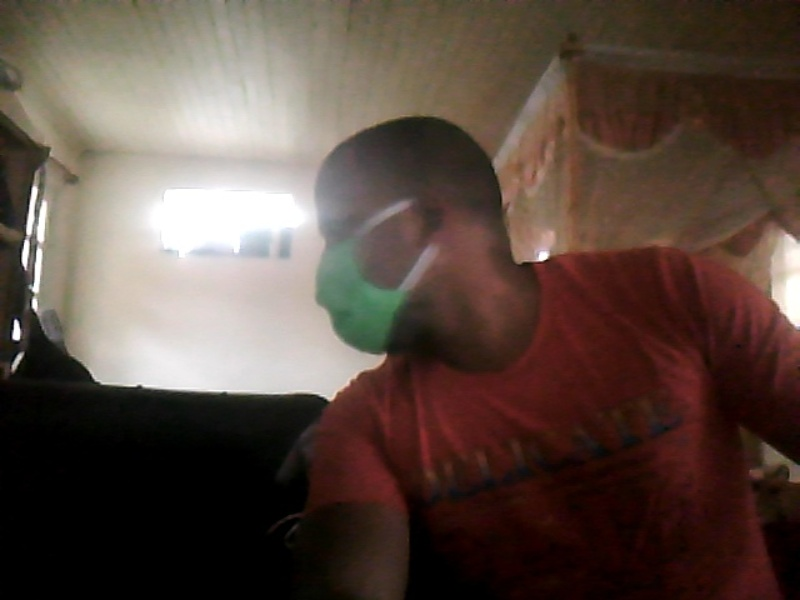ManaoArotava: (291, 135, 486, 362)
